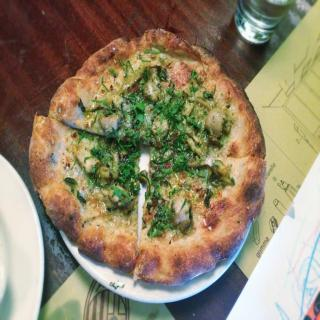Pizza: (27, 27, 266, 283)
